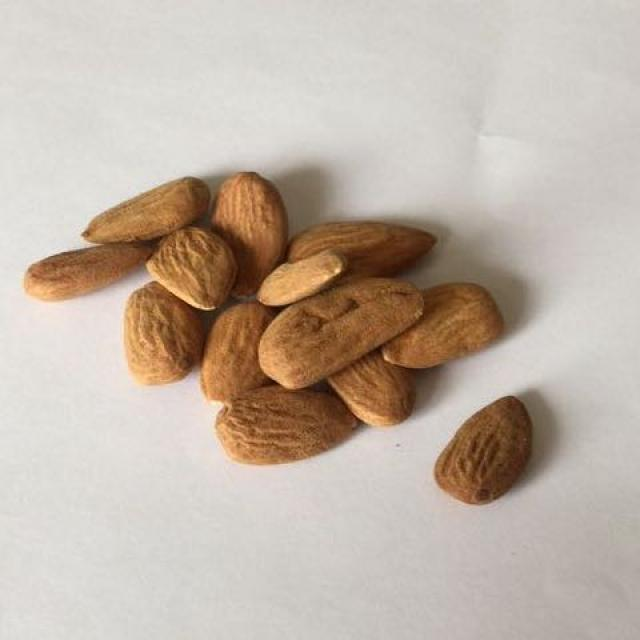almonds: (36, 158, 502, 517), (46, 174, 502, 466)
